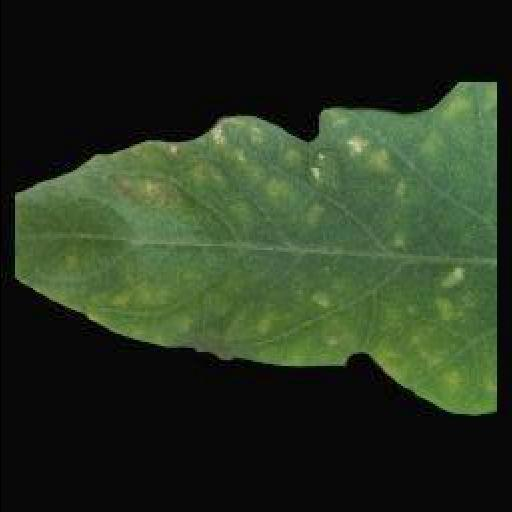Late Blight: (14, 82, 496, 416)
